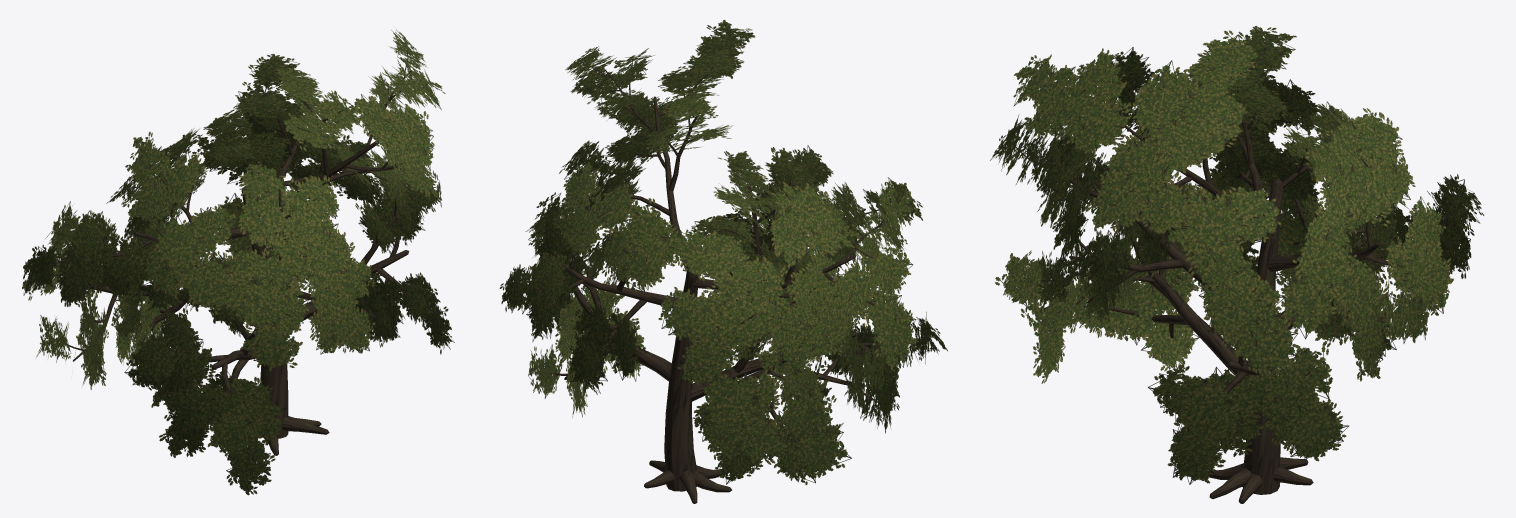
File: DarkOak_2.gltf
3 renders of one model, left to right at view 1: azimuth 30°, elevation 25°; view 2: azimuth 150°, elevation 25°; view 3: azimuth 270°, elevation 25°, orthographic. The views are drawn at different scales.
Parts seen in each view (by area): view 1: DarkOak_2; view 2: DarkOak_2; view 3: DarkOak_2.
Part boxes in pixels (box(x1,y1,x2,y2)): DarkOak_2: box(22, 29, 454, 495); DarkOak_2: box(499, 20, 947, 503); DarkOak_2: box(990, 25, 1484, 503).
Size of the model in its own units: 17.99 by 16.77 by 16.48.
Materials: 2 (2 with a texture image).
